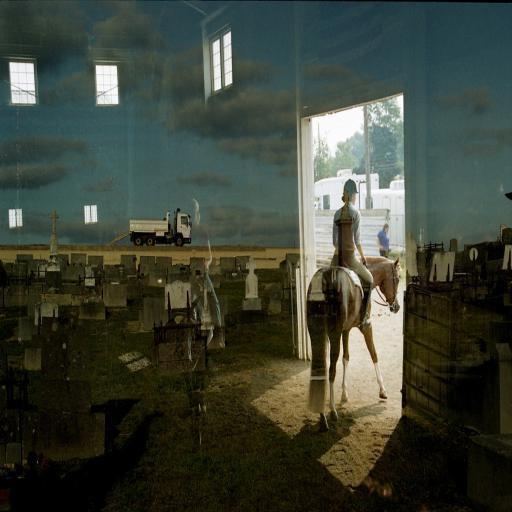horse: (304, 253, 402, 432)
